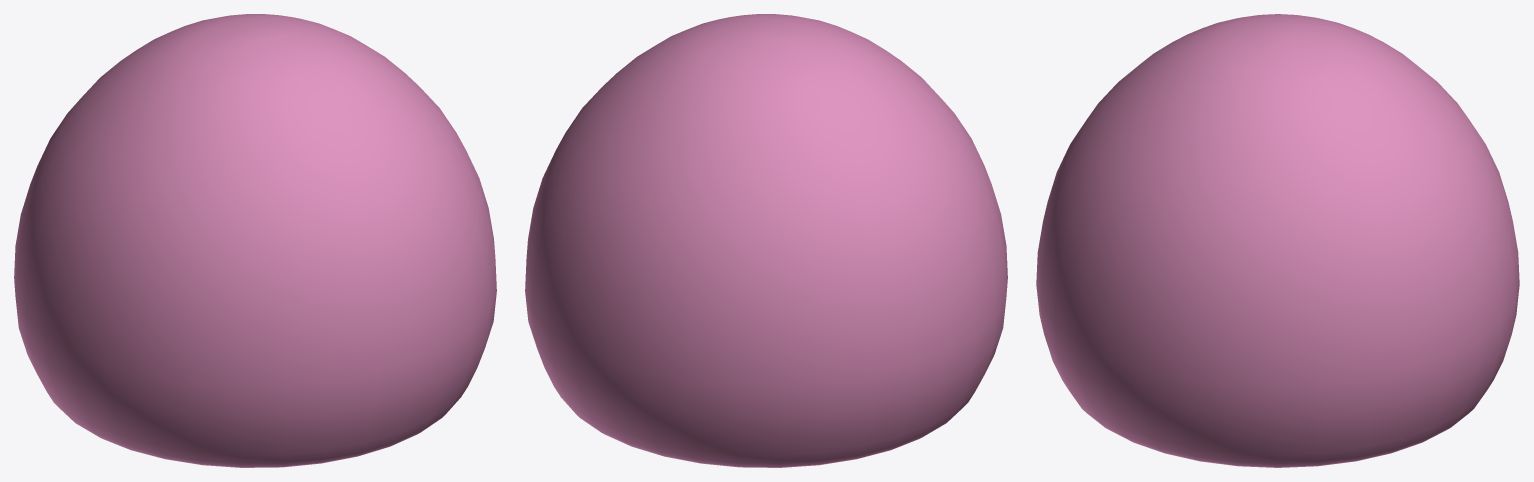
File: SM_20009ArbustoM.fbx
The picture shows the model from 3 angles, left to right: view 1: azimuth 30°, elevation 25°; view 2: azimuth 150°, elevation 25°; view 3: azimuth 270°, elevation 25°; orthographic projection.
Parts seen in each view (by area): view 1: SM_20009ArbustoM_geo_1; view 2: SM_20009ArbustoM_geo_1; view 3: SM_20009ArbustoM_geo_1.
Boxes of the visible parts, box(x1,y1,x2,y2) form: SM_20009ArbustoM_geo_1: box(14, 14, 496, 467); SM_20009ArbustoM_geo_1: box(525, 14, 1007, 467); SM_20009ArbustoM_geo_1: box(1036, 14, 1519, 467).
Size of the model in its own units: 91.02 by 72.56 by 91.02.
